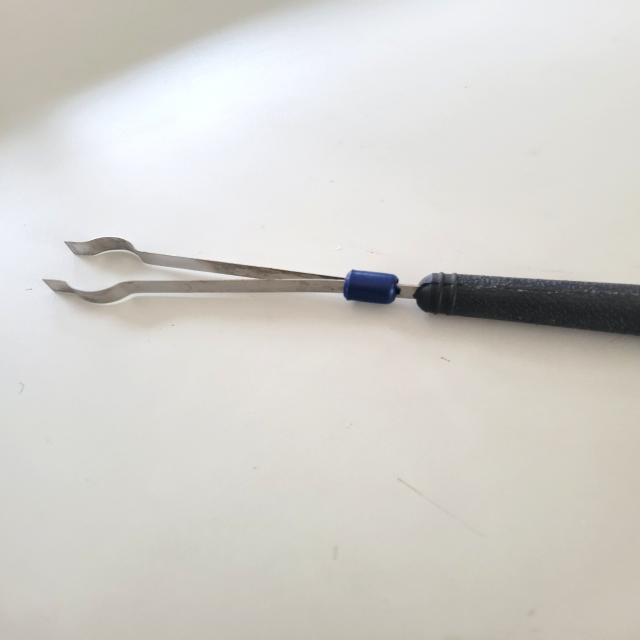TestTube_Holder: (28, 218, 639, 349)
